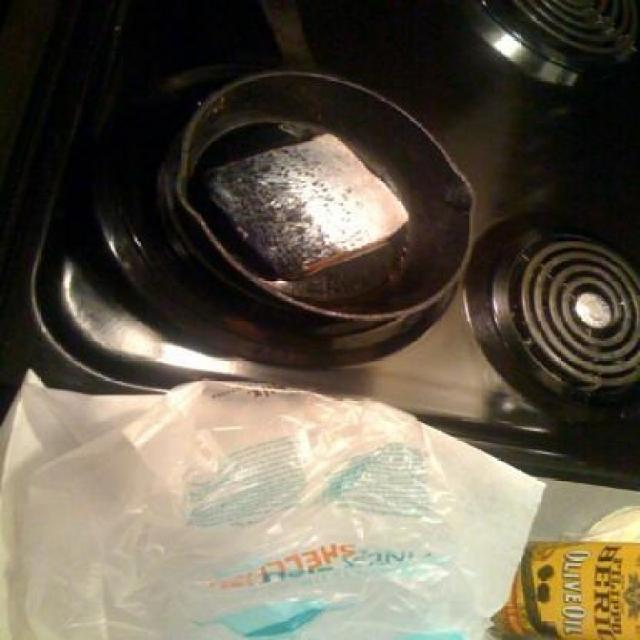plastic bag: (0, 368, 543, 638)
